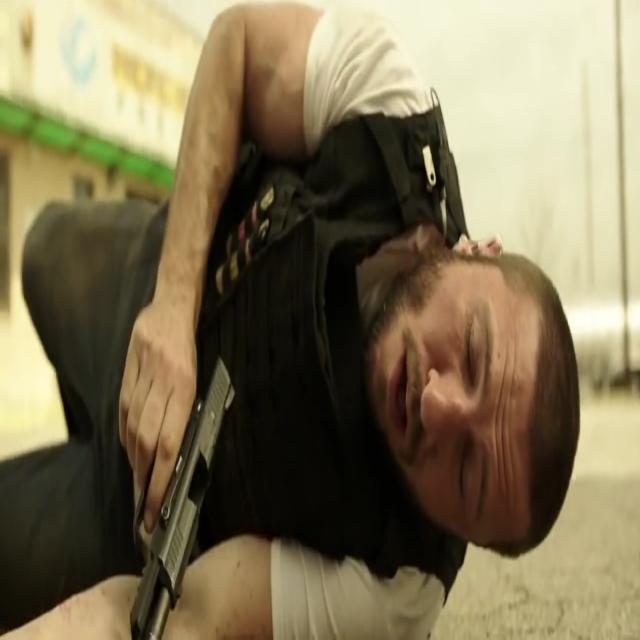Weapon: (100, 349, 236, 640)
